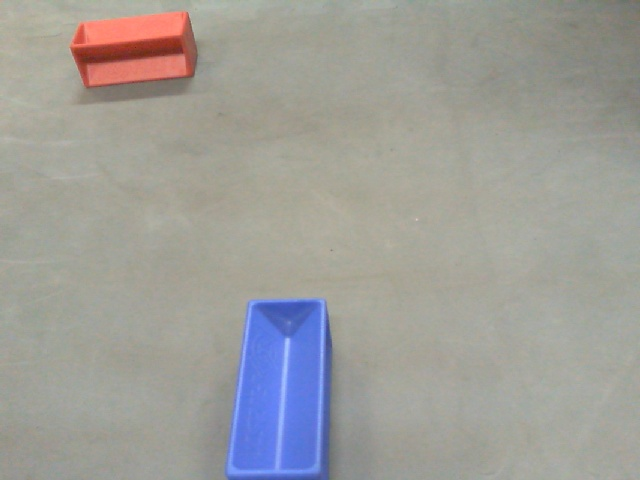BlueSample: (227, 297, 330, 480)
RedSample: (69, 10, 197, 88)
